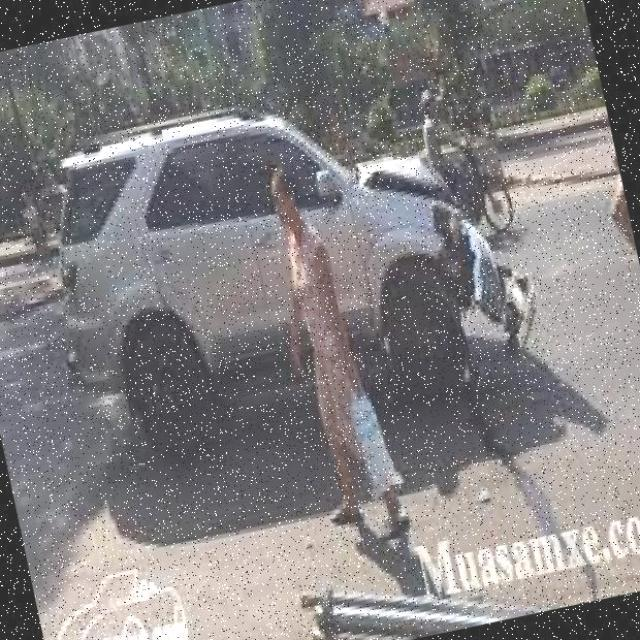accident: (332, 122, 557, 398)
